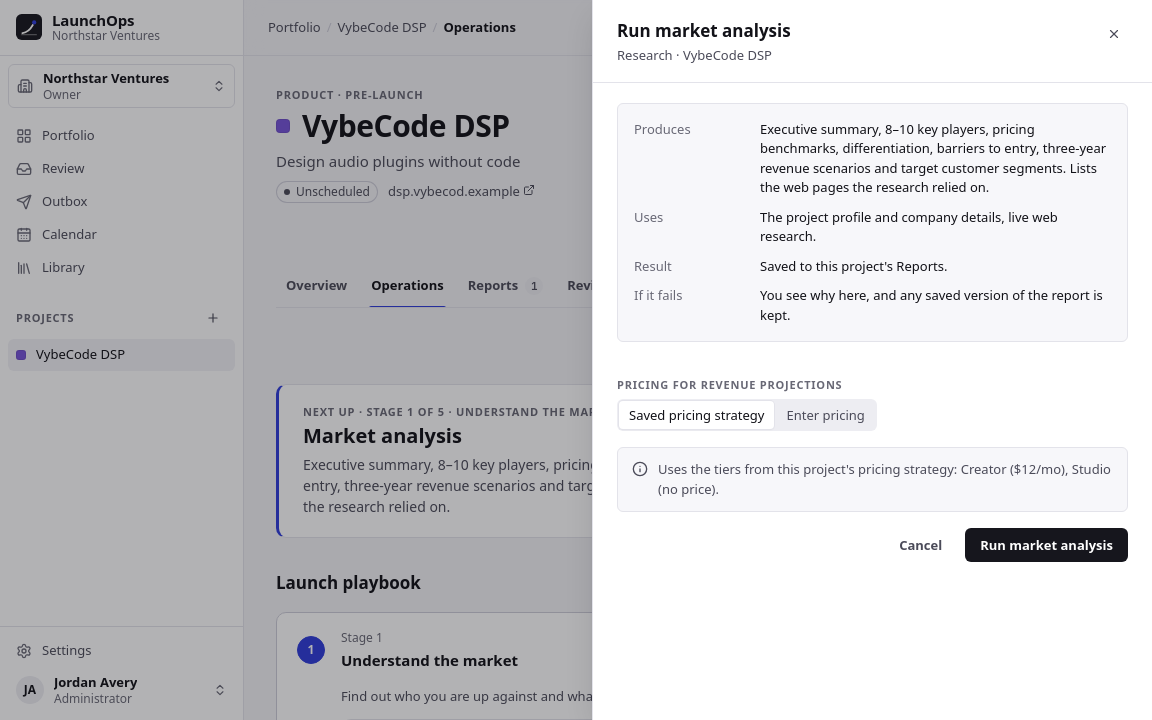
Test: Running a report › bases a market analysis on the saved pricing strategy
The width and height of the screenshot is (1152, 720).
Expected: the text "Uses the tiers from this project's pricing strategy: Creator ($12/mo), Studio (no price)." is shown, [658,460,1113,499]
What coordinates should you click on to do the following:
click the button "Run market analysis"
I would click on:
 (1047, 545)
Its box is [965,528,1128,562].
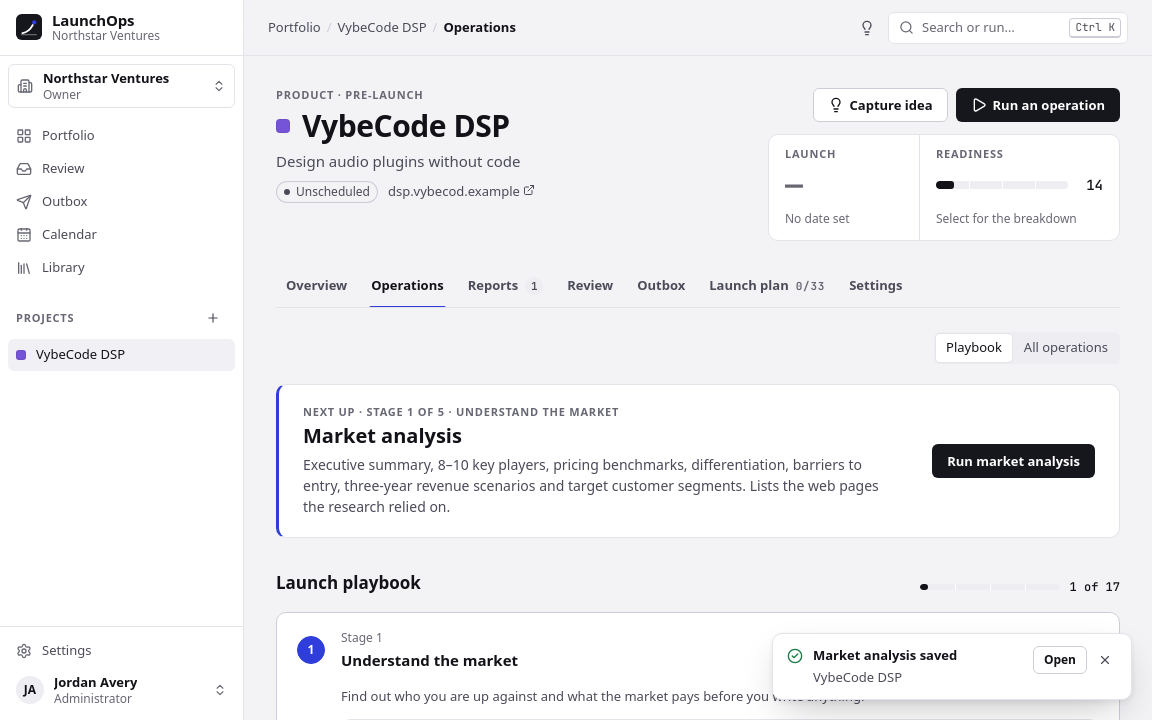
Result: the text "Market analysis saved" is shown at [813,646,957,664]
